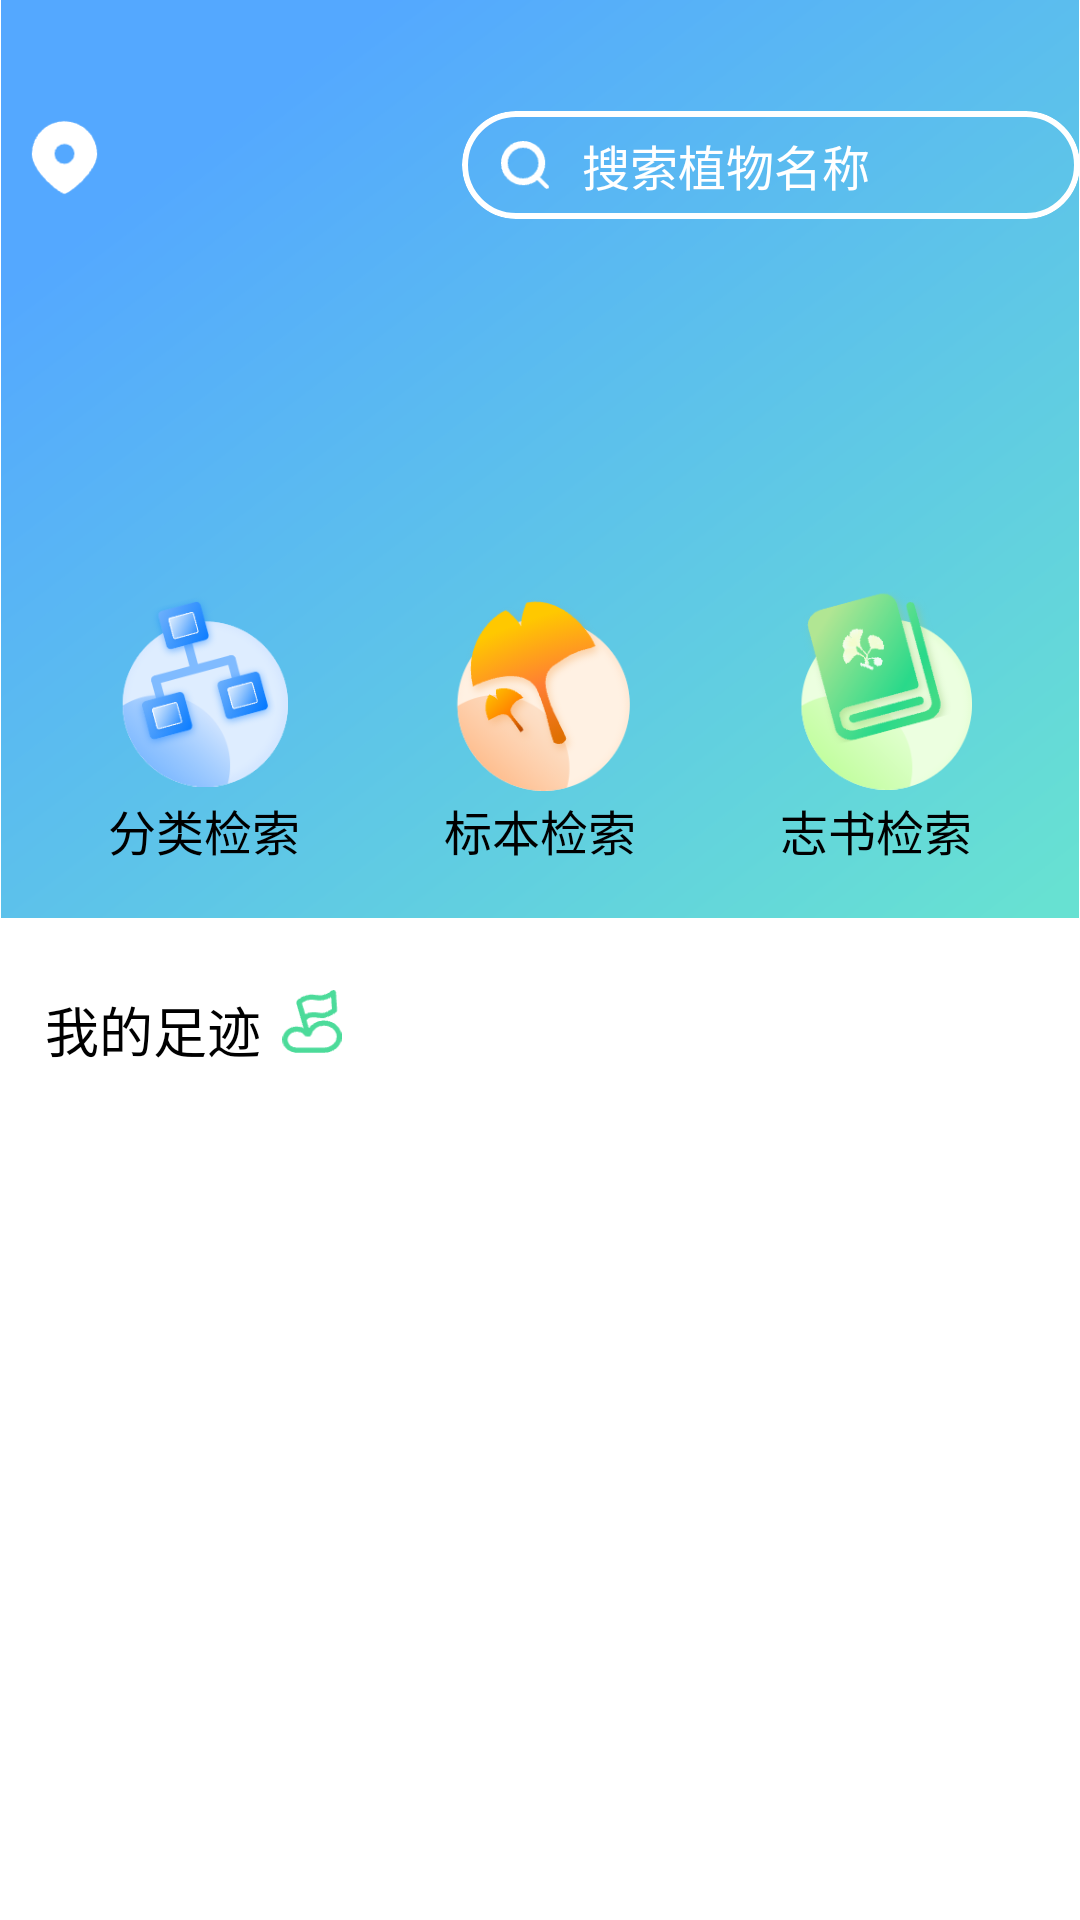

Locate icon controls on the screen. Image size 1080×1920, boxes as (x1=x1, y1=y1, x2=x2, y2=y2).
home page foot print: (x1=282, y1=990, x2=342, y2=1053)
home page location: (x1=32, y1=121, x2=97, y2=194)
magnifying lens: (x1=501, y1=141, x2=549, y2=189)
